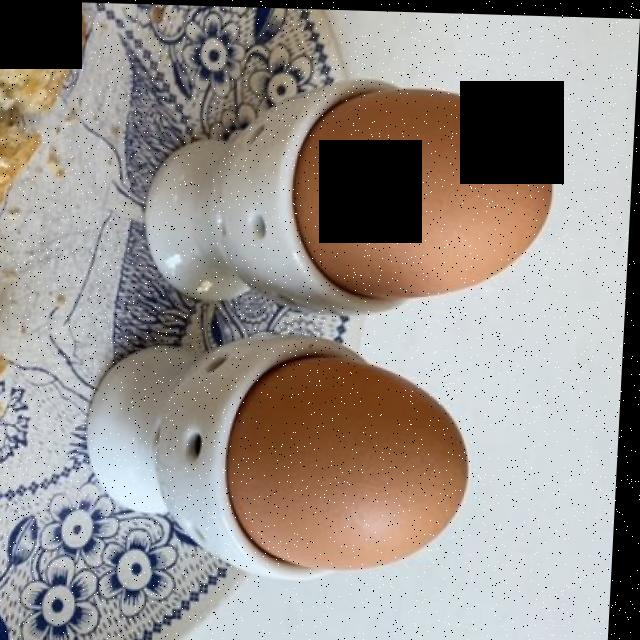egg: (226, 89, 554, 573)
